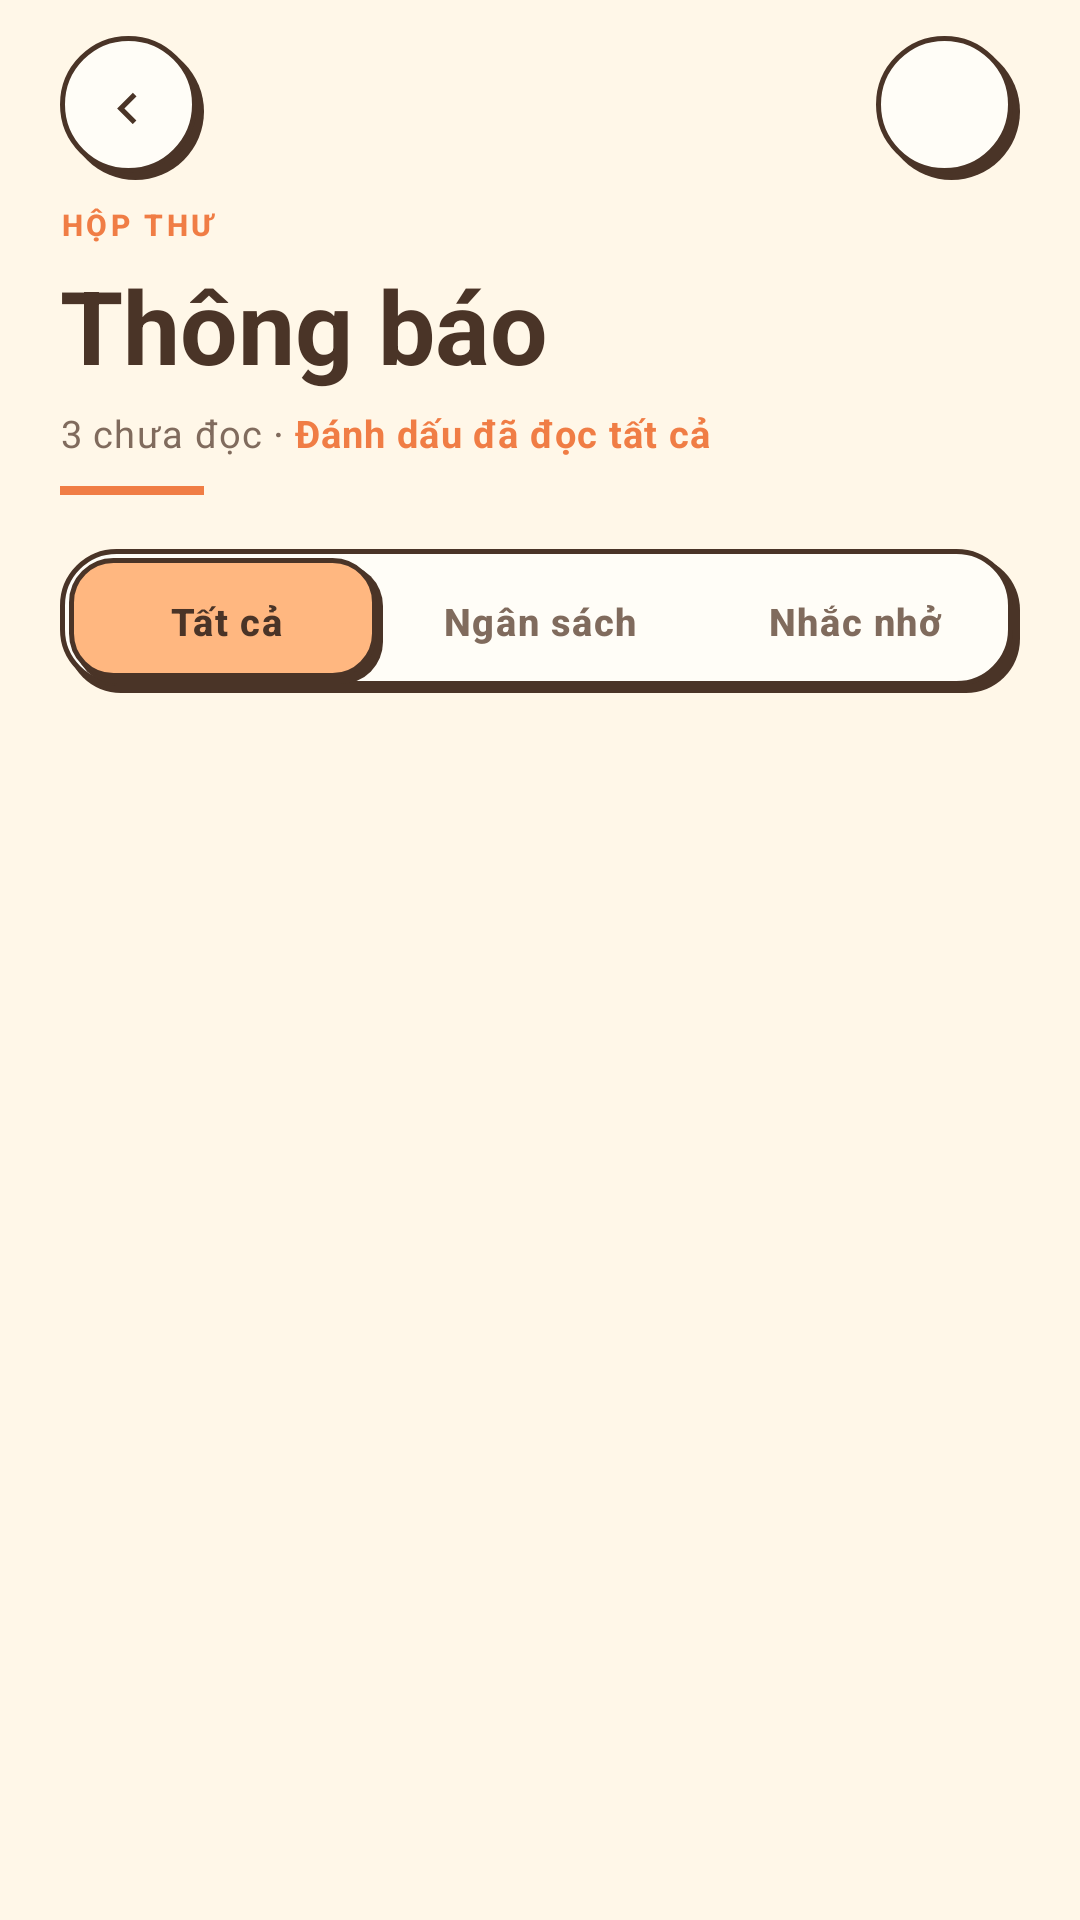

Icons on this 1080*1920 Android screen, each with its box as (x1, y1, x2, y2):
Quay lại: (60, 36, 204, 180)
